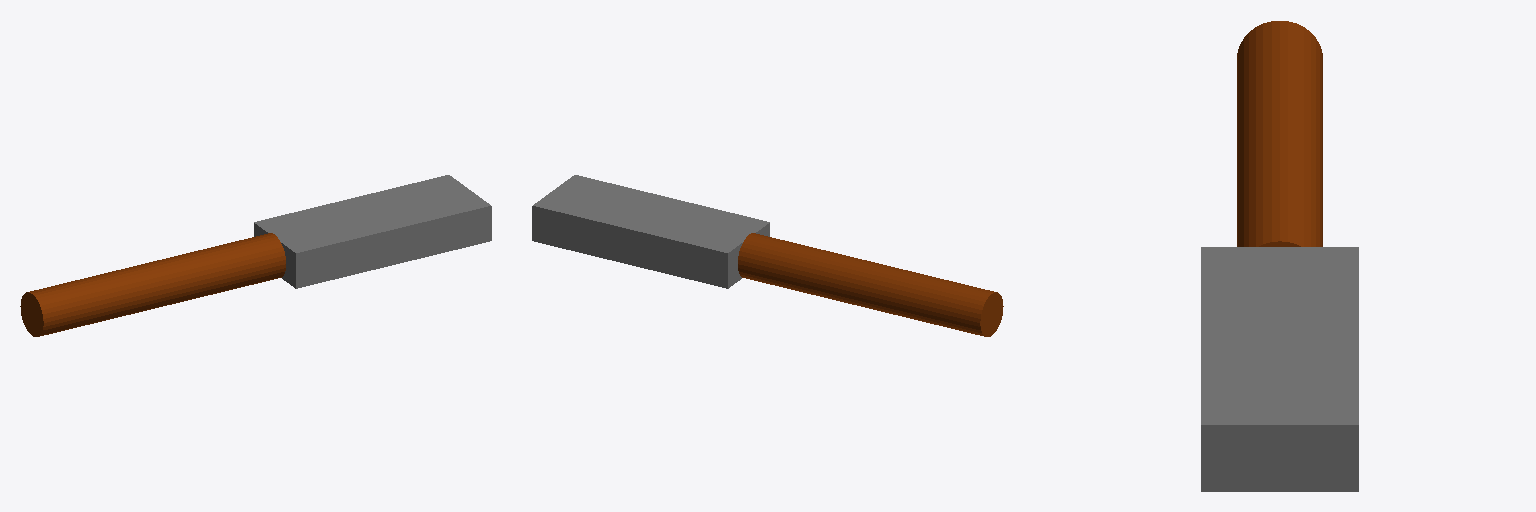
robot.urdf — handle_head:
<?xml version="1.0"?>
<robot name="handle_head">

  <link name="handle_head">
    <!-- Handle -->
    <visual>
              <origin xyz="0 0 0" rpy="0 -1.5707963267948966 0"/>
        <geometry>
          <cylinder length="0.14560403220565402" radius="0.01202662113154829"/>
        </geometry>
        
      <material name="brown">
        <color rgba="0.55 0.27 0.07 1.0"/>
      </material>
    </visual>
    <collision>
              <origin xyz="0 0 0" rpy="0 -1.5707963267948966 0"/>
        <geometry>
          <cylinder length="0.14560403220565402" radius="0.01202662113154829"/>
        </geometry>
        
    </collision>

    <!-- Head -->
    <visual>
              <origin xyz="0.1314523012475039 0 0" rpy="0 0 0"/>
        <geometry>
          <box size="0.11730057028935377 0.04412784941611447 0.02038694954807974"/>
        </geometry>
        
      <material name="gray">
        <color rgba="0.5 0.5 0.5 1.0"/>
      </material>
    </visual>
    <collision>
              <origin xyz="0.1314523012475039 0 0" rpy="0 0 0"/>
        <geometry>
          <box size="0.11730057028935377 0.04412784941611447 0.02038694954807974"/>
        </geometry>
        
    </collision>

    <inertial>
      <origin xyz="0.07828609076640626 0 0" rpy="0 0 0"/>
      <mass value="0.06829838742626175"/>
      <inertia ixx="9.96730184766188e-06" iyy="0.00039366074852541417" izz="0.0003988523595015746" ixy="0" ixz="0" iyz="0"/>
    </inertial>
  </link>

</robot>

--- Facts derived from the render (not from the file) ---
Views: 3 orthographic renders of the robot side by side, from view 1: azimuth 30°, elevation 25°; view 2: azimuth 150°, elevation 25°; view 3: azimuth 270°, elevation 25°.
Model handle_head with 1 links and 0 joints (none), rooted at handle_head, posed all joints at 0.
Visible links, largest first — view 1: handle_head; view 2: handle_head; view 3: handle_head.
Link boxes in pixels (<box>): handle_head: <box>20,175,491,336</box>; handle_head: <box>532,175,1003,336</box>; handle_head: <box>1201,21,1358,491</box>.
Size in the robot's own frame: 0.2629 by 0.0441 by 0.0241 metres.
Geometry: primitives only (box / cylinder / sphere), no mesh files.
